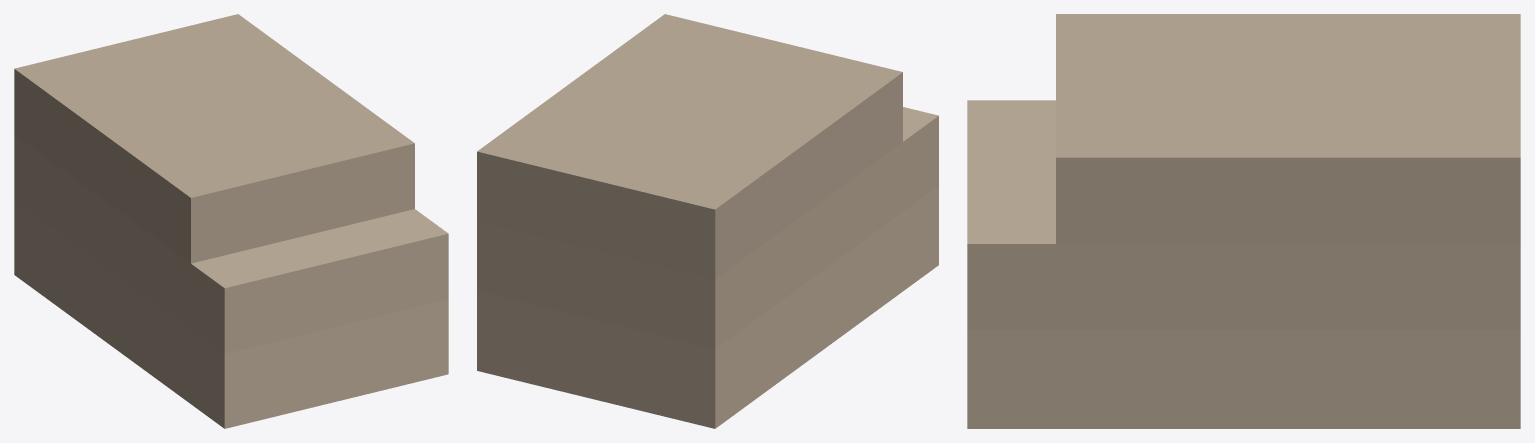
File: massing.glb
3 renders of one model, left to right at view 1: azimuth 30°, elevation 25°; view 2: azimuth 150°, elevation 25°; view 3: azimuth 270°, elevation 25°, orthographic. The views are drawn at different scales.
Visible parts, largest first — view 1: main/floor3/0/0, main/floor2/0/0, main/floor1/0/0; view 2: main/floor3/0/0, main/floor1/0/0, main/floor2/0/0; view 3: main/floor3/0/0, main/floor2/0/0, main/floor1/0/0.
Boxes of the visible parts, left/top/right/bottom form: main/floor3/0/0: left=14, top=14, right=414, bottom=263; main/floor2/0/0: left=14, top=134, right=448, bottom=353; main/floor1/0/0: left=14, top=200, right=448, bottom=428; main/floor3/0/0: left=477, top=14, right=902, bottom=279; main/floor1/0/0: left=477, top=185, right=938, bottom=428; main/floor2/0/0: left=477, top=107, right=938, bottom=348; main/floor3/0/0: left=1056, top=14, right=1520, bottom=243; main/floor2/0/0: left=967, top=100, right=1520, bottom=330; main/floor1/0/0: left=967, top=330, right=1520, bottom=428.
Bounding box in the file's own units: 10 × 8.8 × 16.27.
